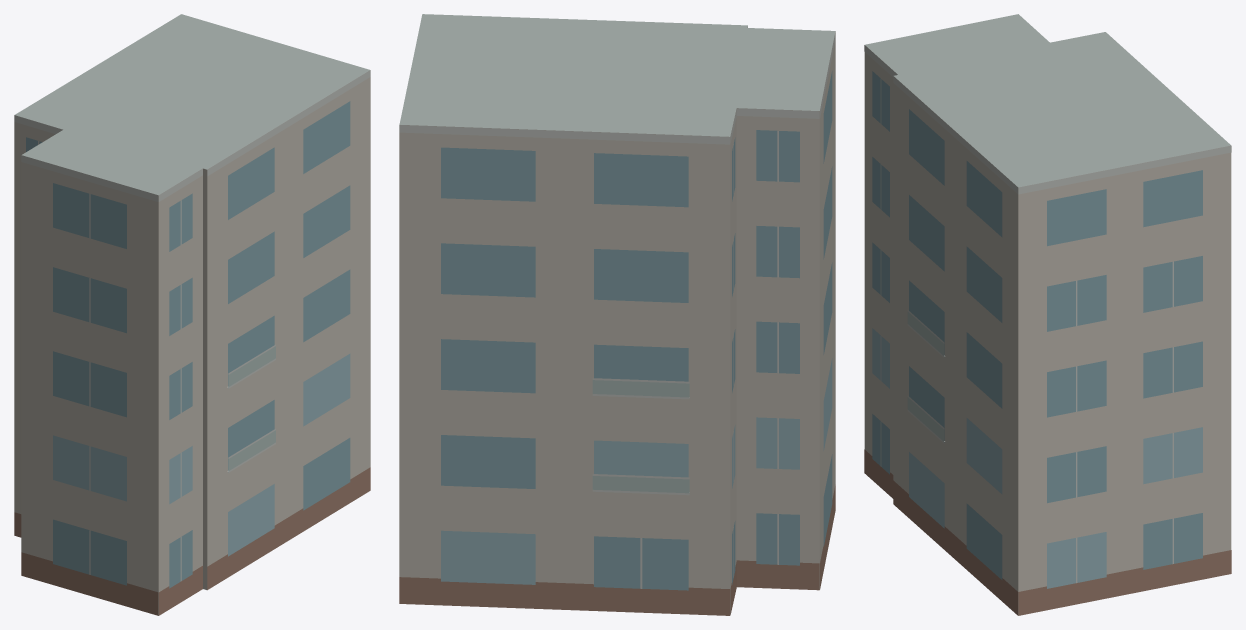
The model's file is survey-upis-32741383.glb.
3 renders of one model, left to right at view 1: azimuth 30°, elevation 25°; view 2: azimuth 150°, elevation 25°; view 3: azimuth 270°, elevation 25°, orthographic. The views are drawn at different scales.
Parts seen in each view (by area): view 1: survey-upis-32741383.tmp; view 2: survey-upis-32741383.tmp; view 3: survey-upis-32741383.tmp.
Boxes of the visible parts, x1,y1,x2,y2 form: survey-upis-32741383.tmp: (14,14,370,615); survey-upis-32741383.tmp: (399,14,835,615); survey-upis-32741383.tmp: (864,14,1231,615).
Size of the model in its own units: 12.95 by 14.9 by 11.58.
